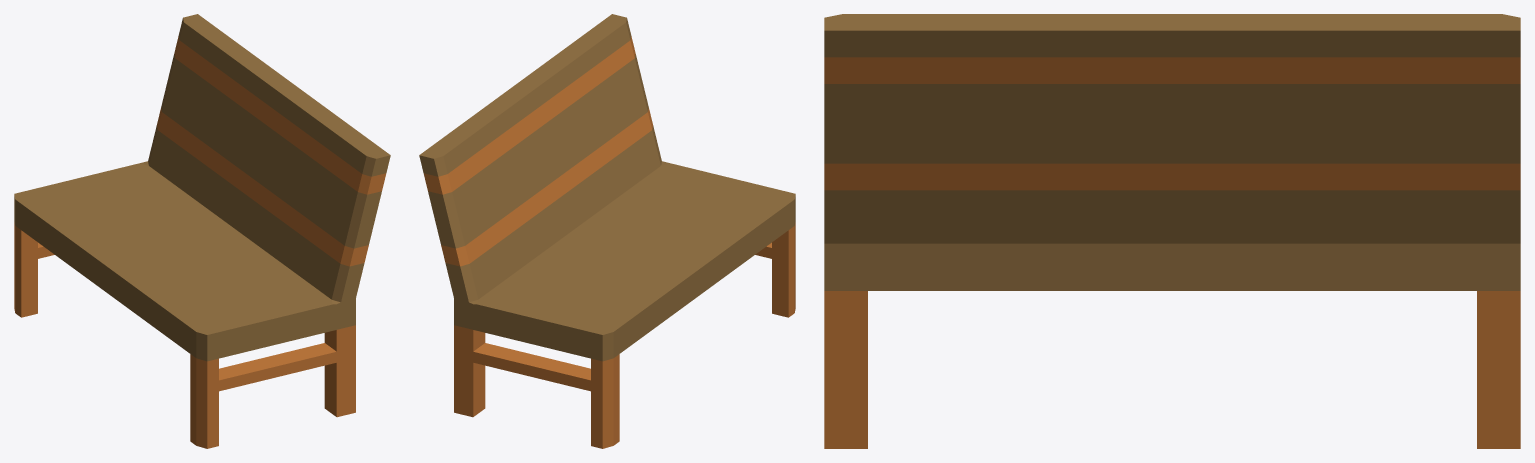
File: BenchModel04.fbx
The picture shows the model from 3 angles, left to right: view 1: azimuth 30°, elevation 25°; view 2: azimuth 150°, elevation 25°; view 3: azimuth 270°, elevation 25°; orthographic projection. The views are drawn at different scales.
Visible parts, largest first — view 1: Bench04; view 2: Bench04; view 3: Bench04.
Part boxes in pixels (box(x1,y1,x2,y2)): Bench04: box(14, 14, 390, 448); Bench04: box(419, 14, 795, 448); Bench04: box(824, 14, 1520, 448).
Bounding box in the file's own units: 100 × 126 × 177.
